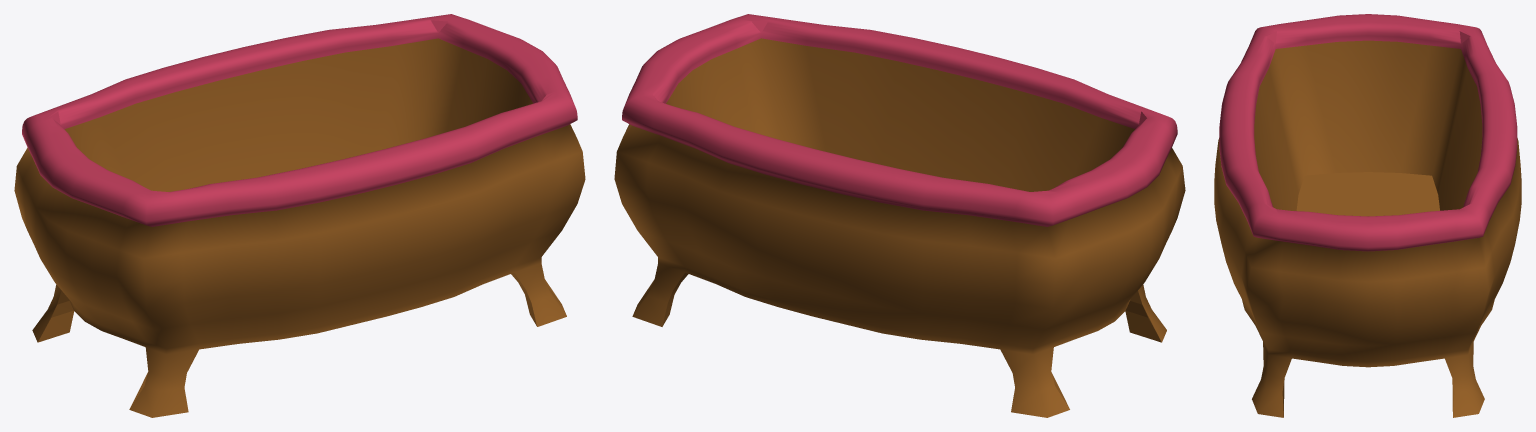
The model's file is Bathtub.FBX.
The picture shows the model from 3 angles, left to right: view 1: azimuth 30°, elevation 25°; view 2: azimuth 150°, elevation 25°; view 3: azimuth 270°, elevation 25°; orthographic projection. The views are drawn at different scales.
Visible parts, largest first — view 1: Bathtub; view 2: Bathtub; view 3: Bathtub.
Part boxes in pixels (bbox=[...]): Bathtub: bbox=[14, 14, 585, 417]; Bathtub: bbox=[614, 14, 1185, 417]; Bathtub: bbox=[1214, 14, 1521, 417].
Size of the model in its own units: 3.64 by 2.09 by 1.5.
